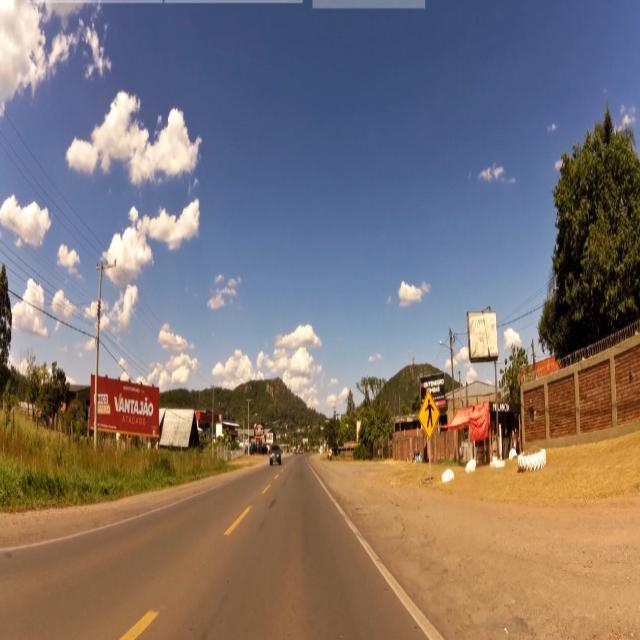A-32a: (419, 392, 438, 441)
